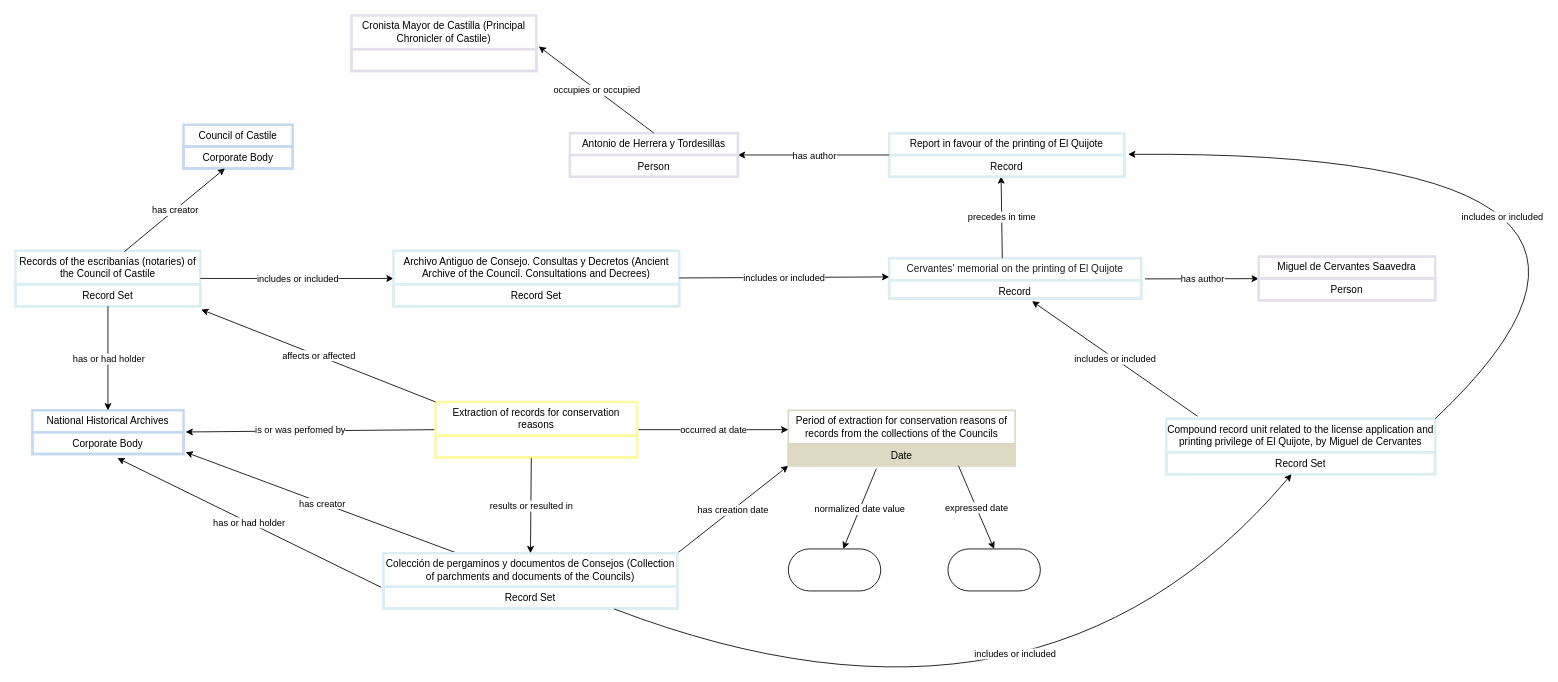
Image size: 1558x682. Some labels were removed from this diagram. Here are the shapes that lost their labels. From the top down, the centre of each, then its label:
At [443,59]: "Position".
At [536,446]: "Activity".
At [834,569]: "198X/..".
At [993,569]: "From the 1980s onwards".
